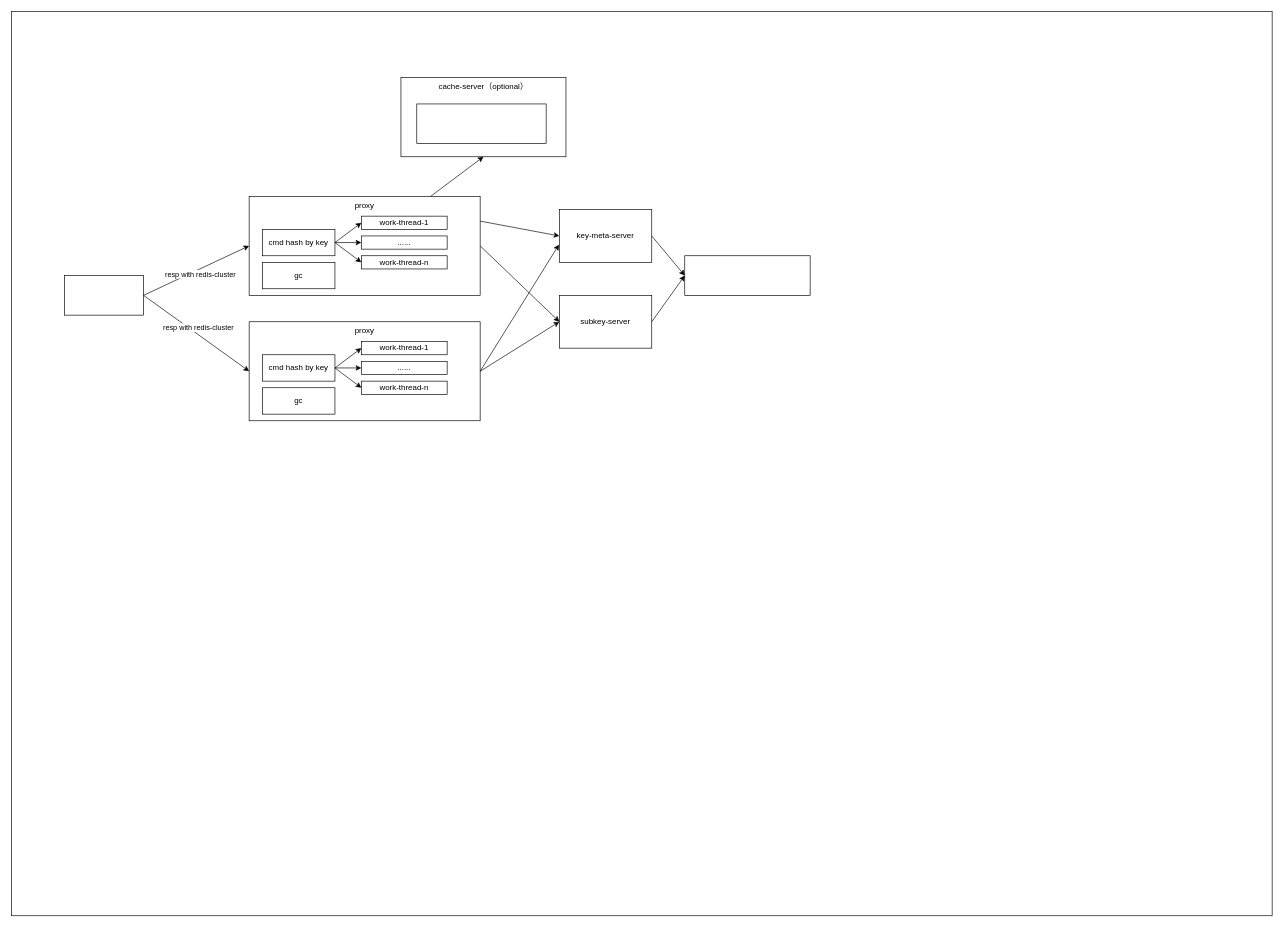
The diagram is 1284 pixels wide and 927 high, and some of its shapes have lost their labels. Here are the shapes that lost their labels. From the top down, the centre of each, then its label:
the point at 481,123: redis with short ttl
the point at 104,295: redis-cluster-client
the point at 747,275: distribution-kv-storage (hbase、oceanbase、tikv)
